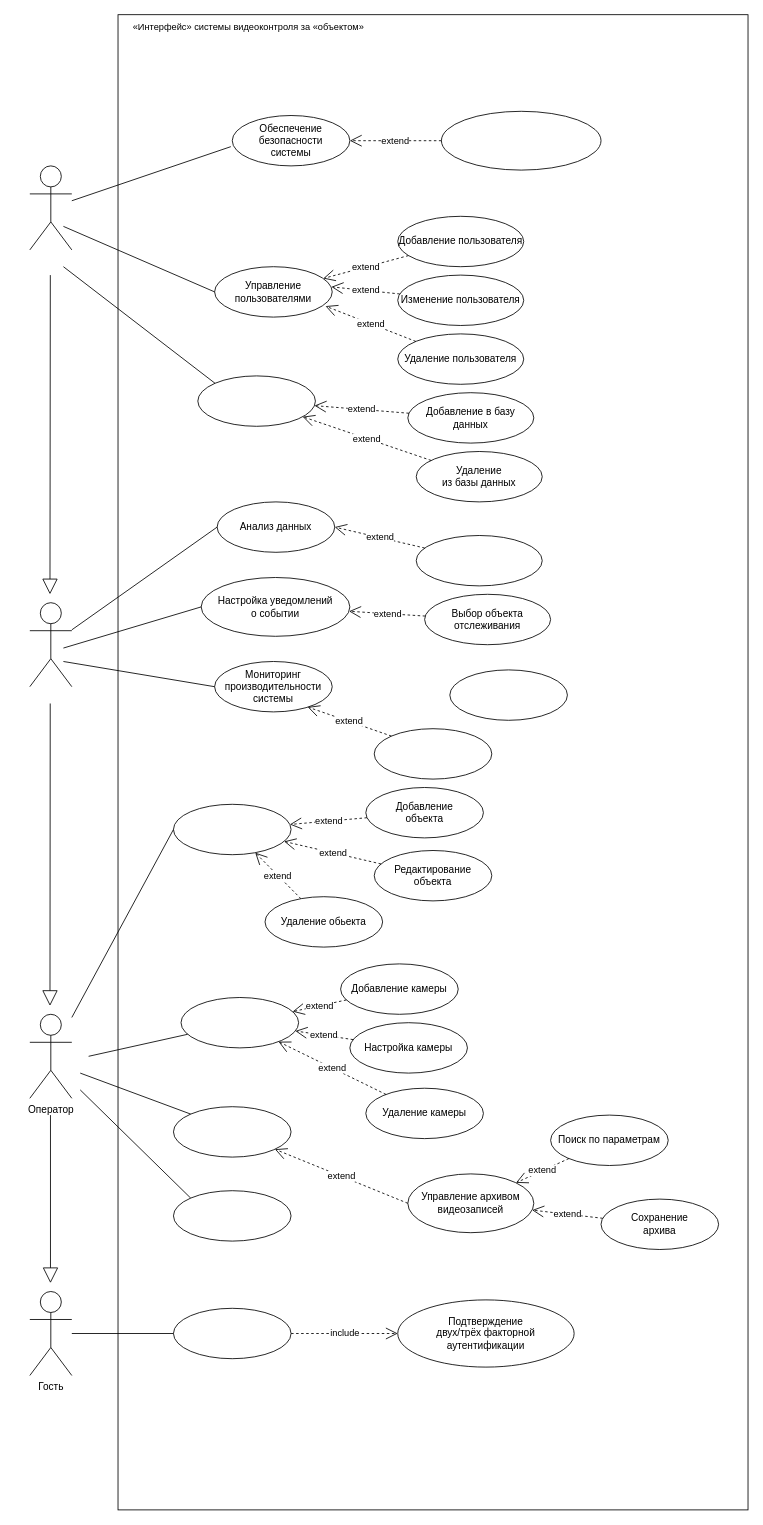
Some shapes in this 763 by 1525 pixel diagram are drawn without their labels. Each missing label, with the centre of its shape:
Авторизация: (232,1333)
Администратор: (50,207)
Анализ данных о событиях и активности: (508,694)
Ведение статистики и аналитики: (432,753)
Генерация отчетов: (478,560)
Настройка обьектов наблюдения: (232,829)
Поиск видозаписей: (232,1215)
Просмотр видеозаписей: (232,1131)
Руководитель: (50,644)
Управление базой данных: (256,400)
Управление доступом к данным и функциональности: (521,140)
Управление камерами: (239,1022)
